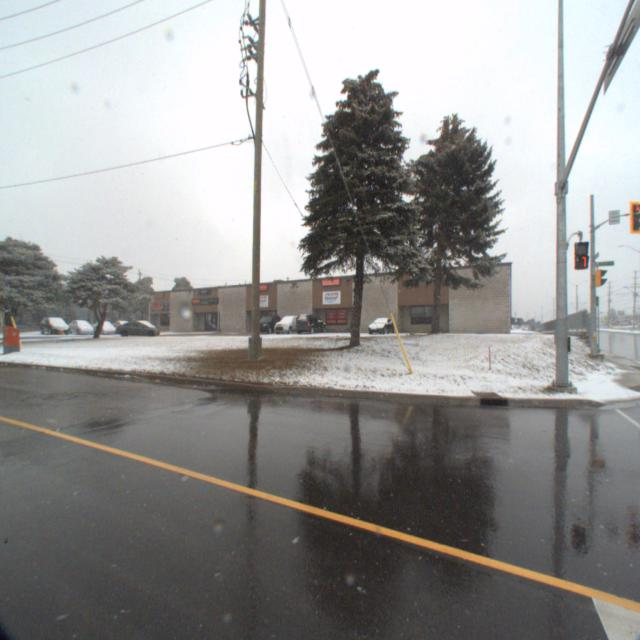Car: (110, 322, 158, 342), (270, 316, 303, 338), (33, 319, 67, 340), (293, 316, 325, 338), (364, 318, 396, 338), (63, 322, 93, 340)
